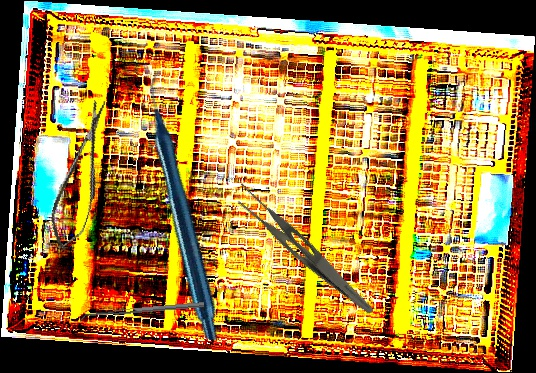Dressing Forceps: (225, 180, 387, 316)
Handpiece: (66, 69, 306, 343)
Micro Scissor: (42, 96, 122, 254)
Spatula Surgical: (79, 302, 205, 323)
